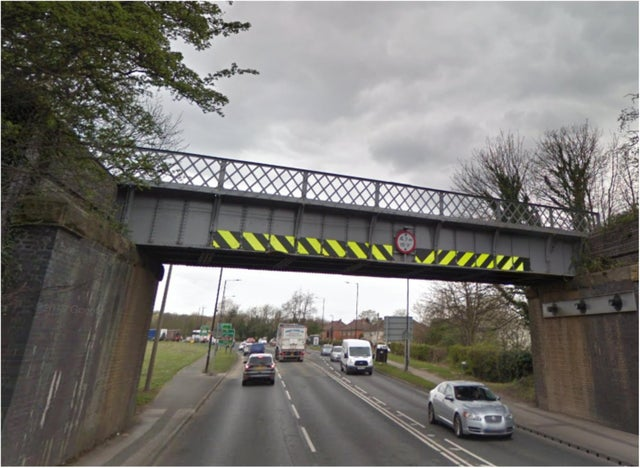bridge: (90, 137, 603, 286)
